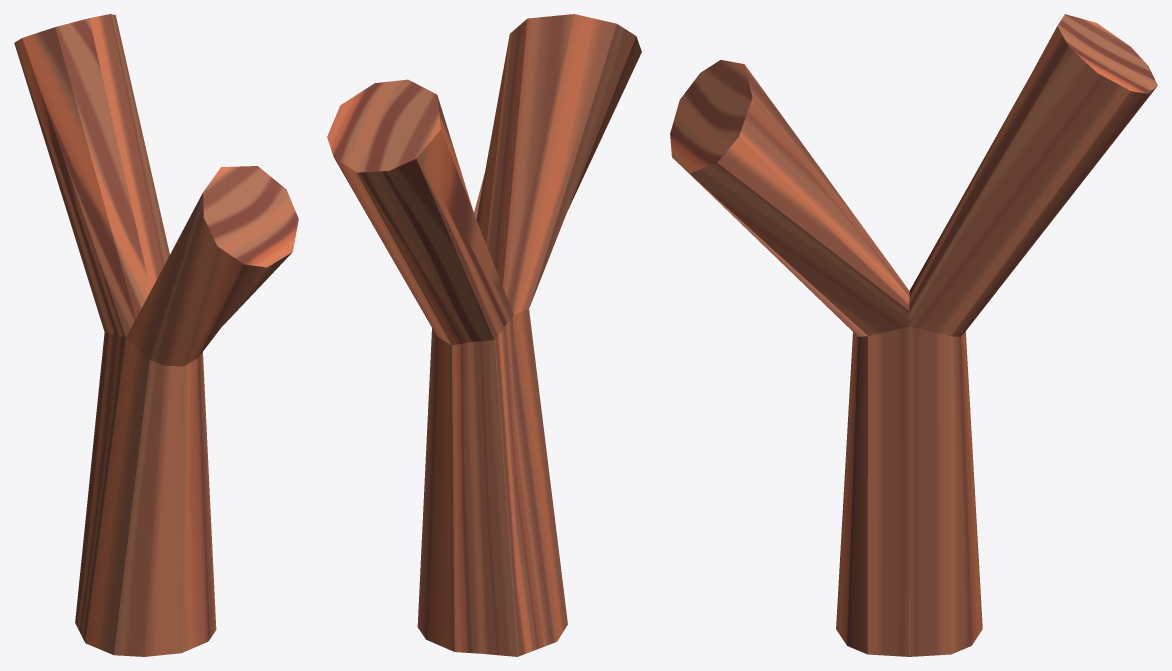
Rendered from slingshot.fbx.
3 renders of one model, left to right at view 1: azimuth 30°, elevation 25°; view 2: azimuth 150°, elevation 25°; view 3: azimuth 270°, elevation 25°, orthographic. The views are drawn at different scales.
Parts seen in each view (by area): view 1: Цилиндр.002; view 2: Цилиндр.002; view 3: Цилиндр.002.
Part boxes in pixels (left/top/right/bottom): Цилиндр.002: left=14, top=14, right=298, bottom=656; Цилиндр.002: left=327, top=14, right=641, bottom=656; Цилиндр.002: left=670, top=14, right=1157, bottom=656.
Size of the model in its own units: 125 by 535 by 389.
1 material, 1 textured.
